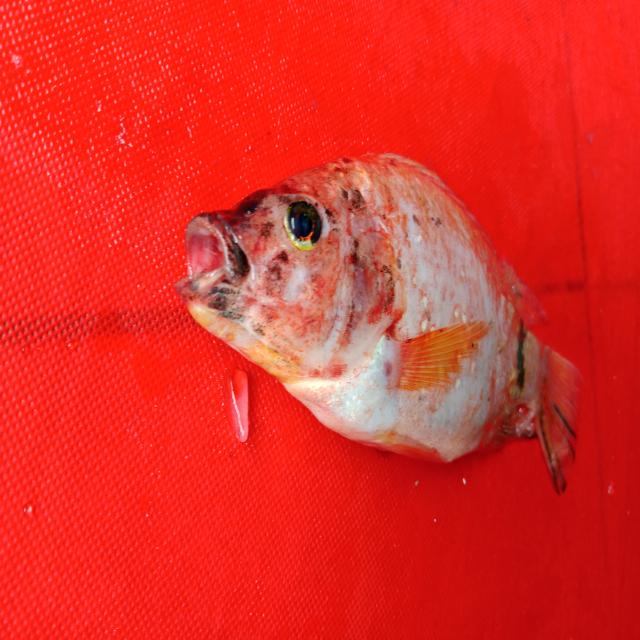ikan: (166, 128, 610, 503)
